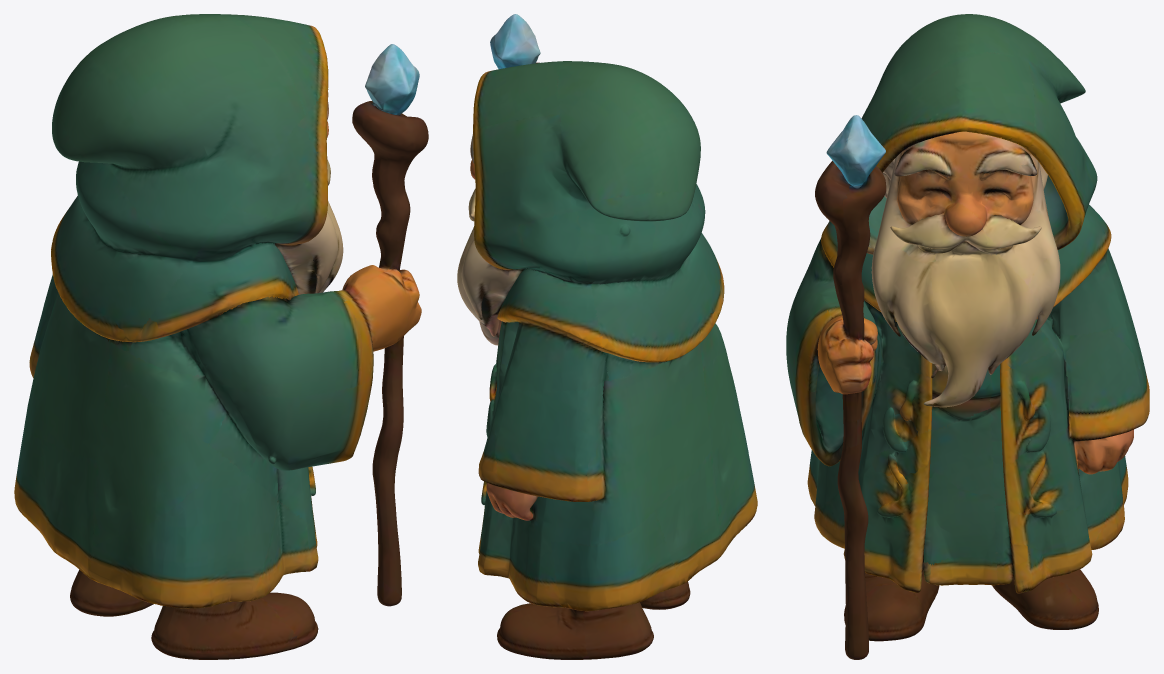
File: elder3d.glb
3 views of the same model, side by side, from view 1: azimuth 30°, elevation 25°; view 2: azimuth 150°, elevation 25°; view 3: azimuth 270°, elevation 25° (orthographic). The views are drawn at different scales.
Parts seen in each view (by area): view 1: tripo_node_3ebf1ee8-85fe-47fb-a763-9a8419973d48; view 2: tripo_node_3ebf1ee8-85fe-47fb-a763-9a8419973d48; view 3: tripo_node_3ebf1ee8-85fe-47fb-a763-9a8419973d48.
Part boxes in pixels (x1,y1,x2,y2): tripo_node_3ebf1ee8-85fe-47fb-a763-9a8419973d48: (14,14,428,659); tripo_node_3ebf1ee8-85fe-47fb-a763-9a8419973d48: (457,14,757,659); tripo_node_3ebf1ee8-85fe-47fb-a763-9a8419973d48: (786,14,1149,659).
Size of the model in its own units: 0.5056 by 0.9996 by 0.5641.
1 material, 1 textured.
